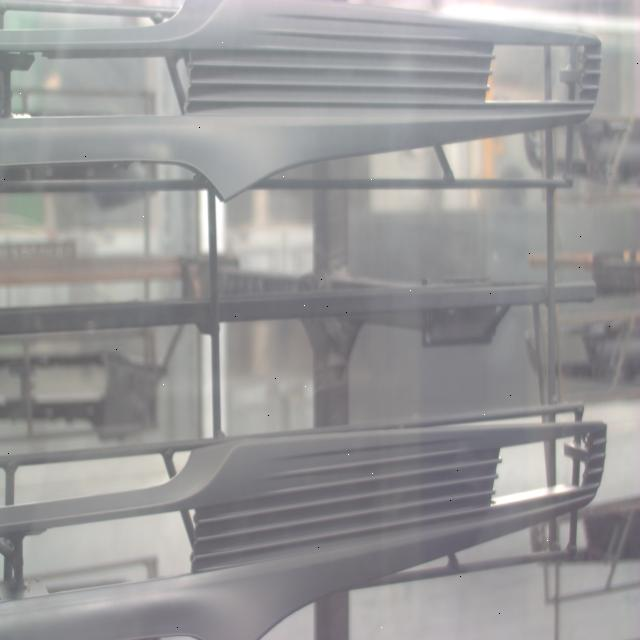Primered: (0, 399, 608, 640), (0, 1, 608, 206)
